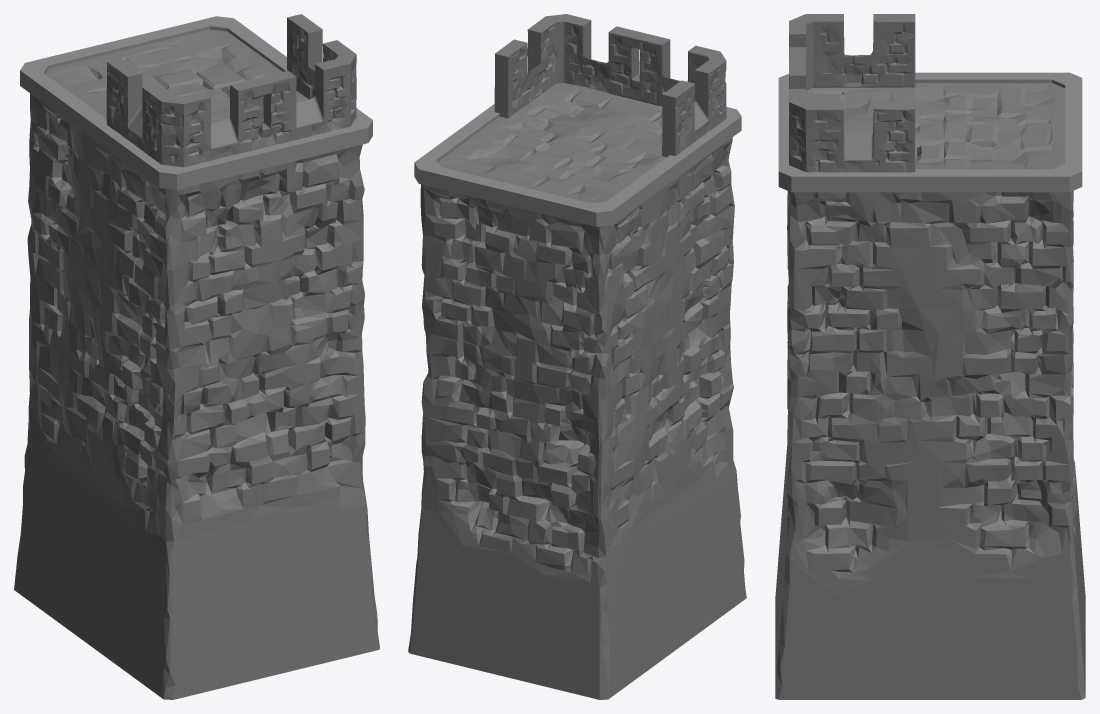
File: castle_battlement_corner_c.FBX
3 renders of one model, left to right at view 1: azimuth 30°, elevation 25°; view 2: azimuth 150°, elevation 25°; view 3: azimuth 270°, elevation 25°, orthographic. The views are drawn at different scales.
Visible parts, largest first — view 1: castle_battlement_corner_c; view 2: castle_battlement_corner_c; view 3: castle_battlement_corner_c.
Part boxes in pixels (box(x1,y1,x2,y2)): castle_battlement_corner_c: box(14, 14, 379, 699); castle_battlement_corner_c: box(408, 14, 746, 699); castle_battlement_corner_c: box(775, 14, 1085, 699).
Size of the model in its own units: 4.33 by 11.28 by 5.41.
